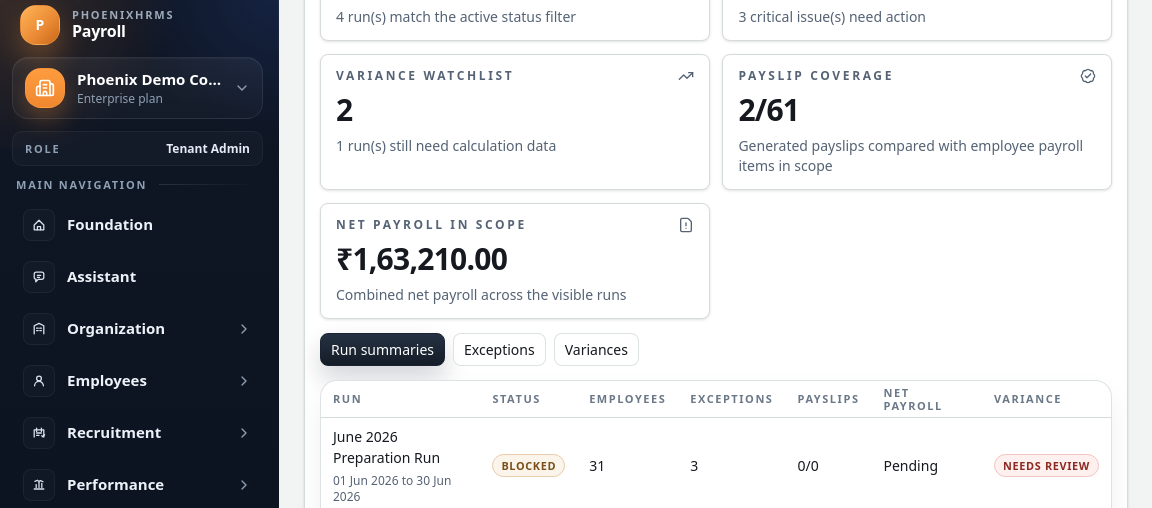
Scenario: PayrollReviewPage › surfaces exception and variance review states in demo mode
(page scrolled)
Click the tab "Exceptions". click: (499, 349)
box: [453,333,546,366]
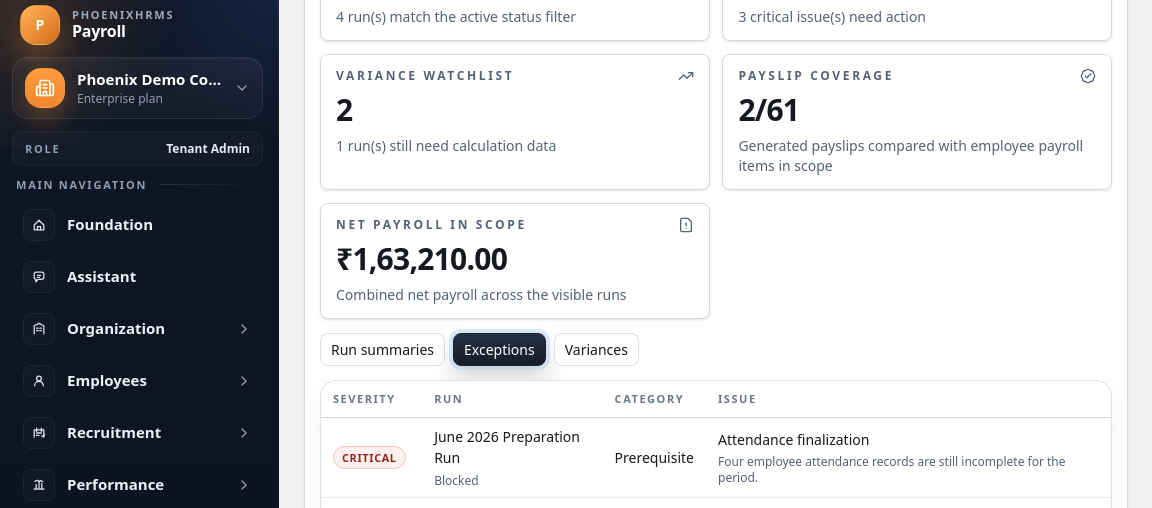
Expected: the text "Attendance finalization" is shown, [718,430,869,449]
Click the tab "Variances". click: (596, 349)
box: [554,333,639,366]
(page scrolled)
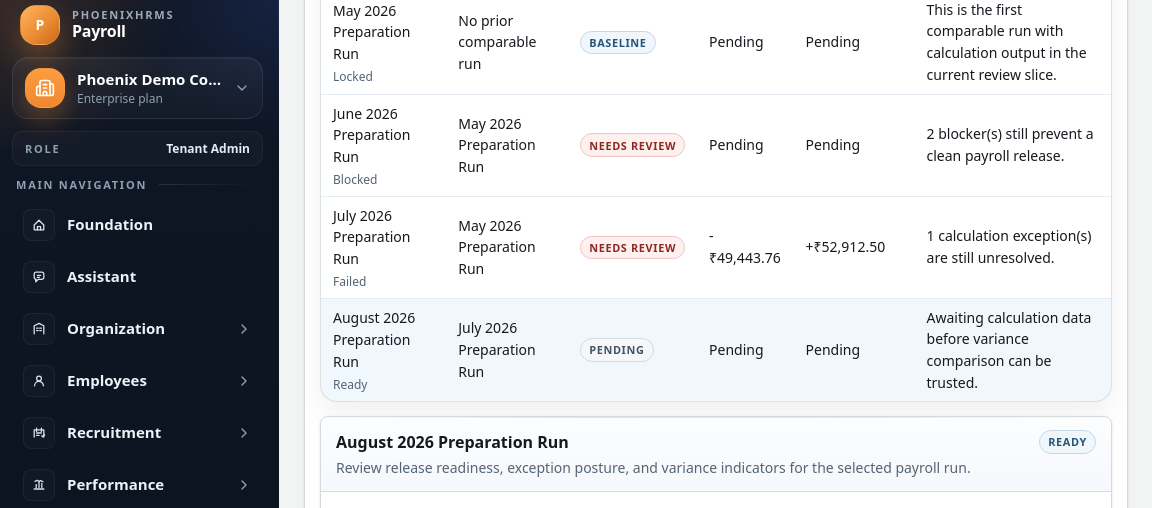
Expected: the text "Needs review" below "June 2026 Preparation Run" is shown, [589,138,676,152]
Expected: the text "Awaiting calculation data before variance comparison can be trusted" is shown, [926,308,1091,392]
